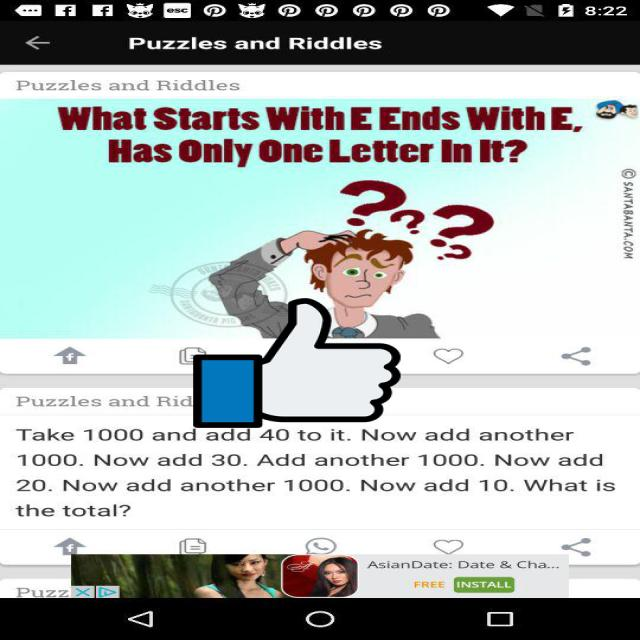privacy zuckering: (193, 295, 401, 431)
